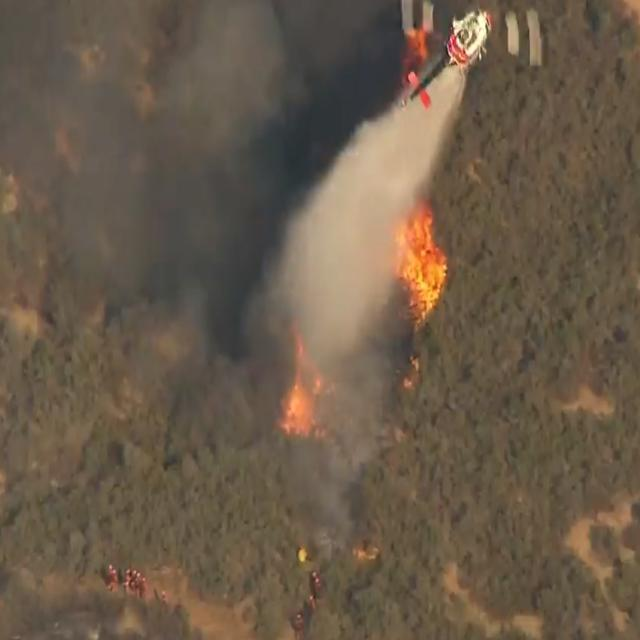Fire: (394, 204, 454, 329), (269, 343, 325, 441)
Smoke: (128, 39, 396, 292)
